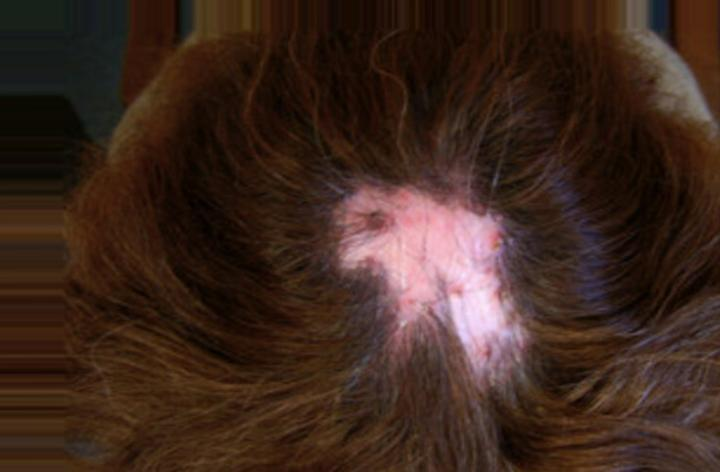Folliculitis: (323, 169, 540, 384)
